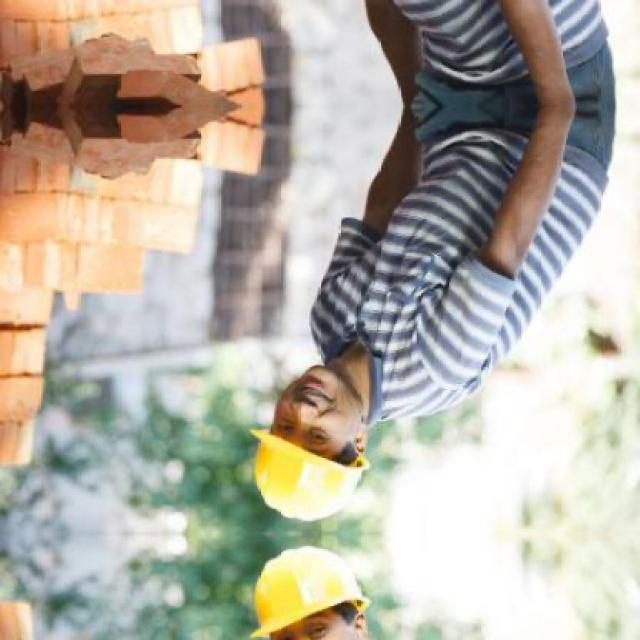con casco: (241, 314, 462, 534)
